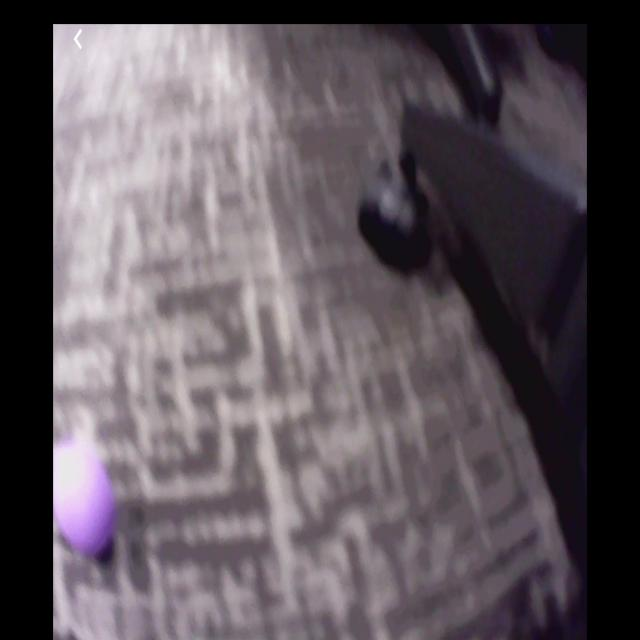ball: (56, 453, 117, 554)
